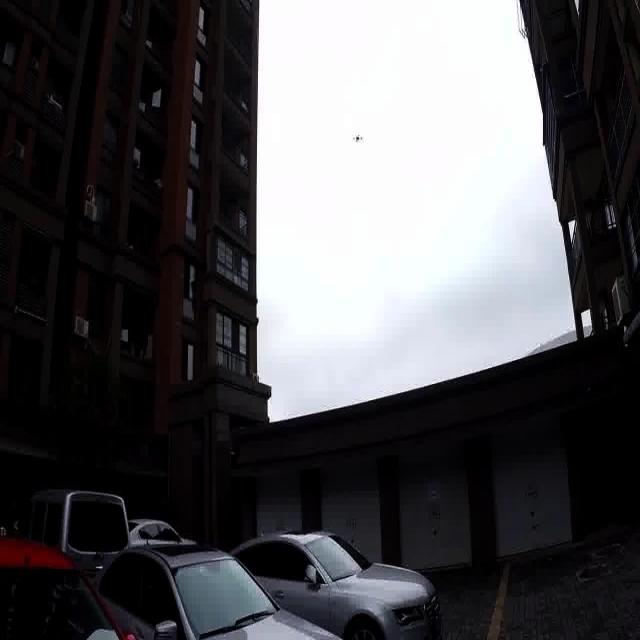drone: (353, 129, 365, 148)
